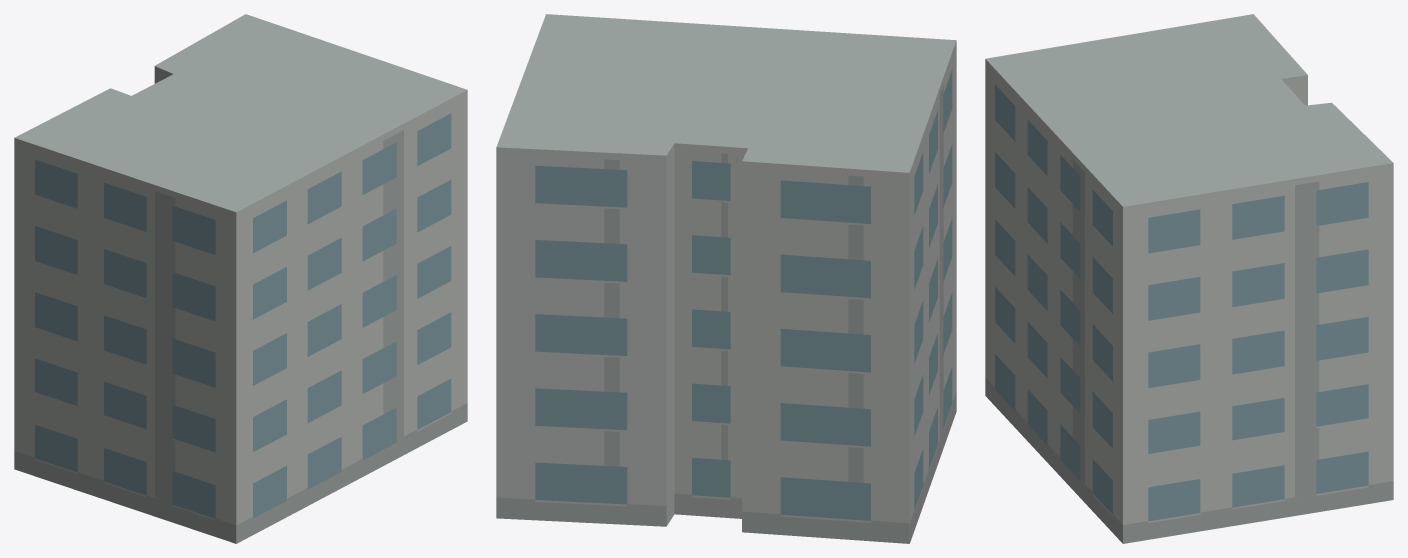
Rendered from survey-upis-32883347.glb.
3 renders of one model, left to right at view 1: azimuth 30°, elevation 25°; view 2: azimuth 150°, elevation 25°; view 3: azimuth 270°, elevation 25°, orthographic. The views are drawn at different scales.
Visible parts, largest first — view 1: survey-upis-32883347.tmp; view 2: survey-upis-32883347.tmp; view 3: survey-upis-32883347.tmp.
Boxes of the visible parts, <box> form: survey-upis-32883347.tmp: <box>14,14,467,543</box>; survey-upis-32883347.tmp: <box>496,14,956,543</box>; survey-upis-32883347.tmp: <box>985,14,1393,543</box>.
Size of the model in its own units: 16.1 by 13.1 by 14.4.
